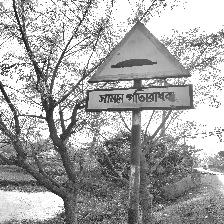Speed-breaker: (86, 20, 194, 113)
